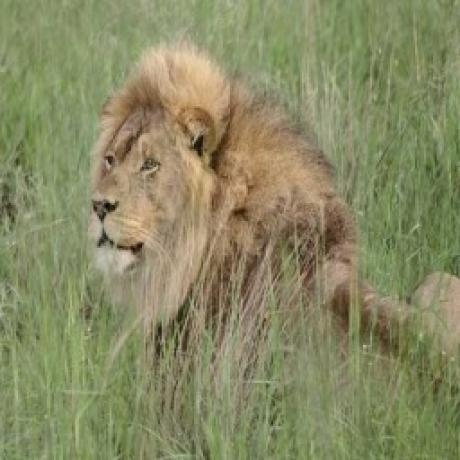Lion: (89, 37, 358, 365)
